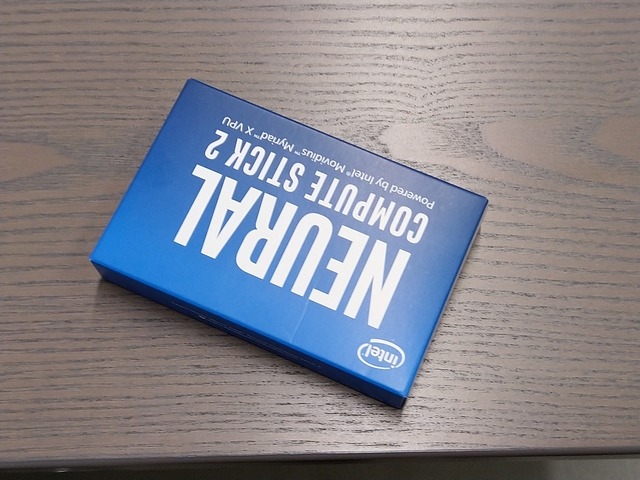box: (87, 76, 489, 412)
